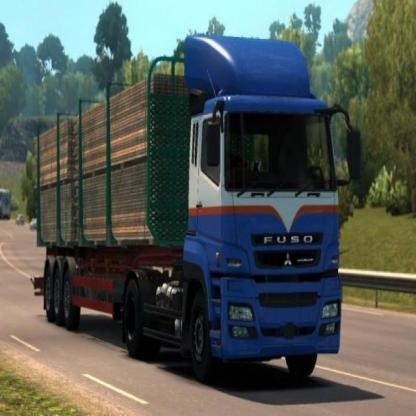truck: (32, 35, 358, 377)
